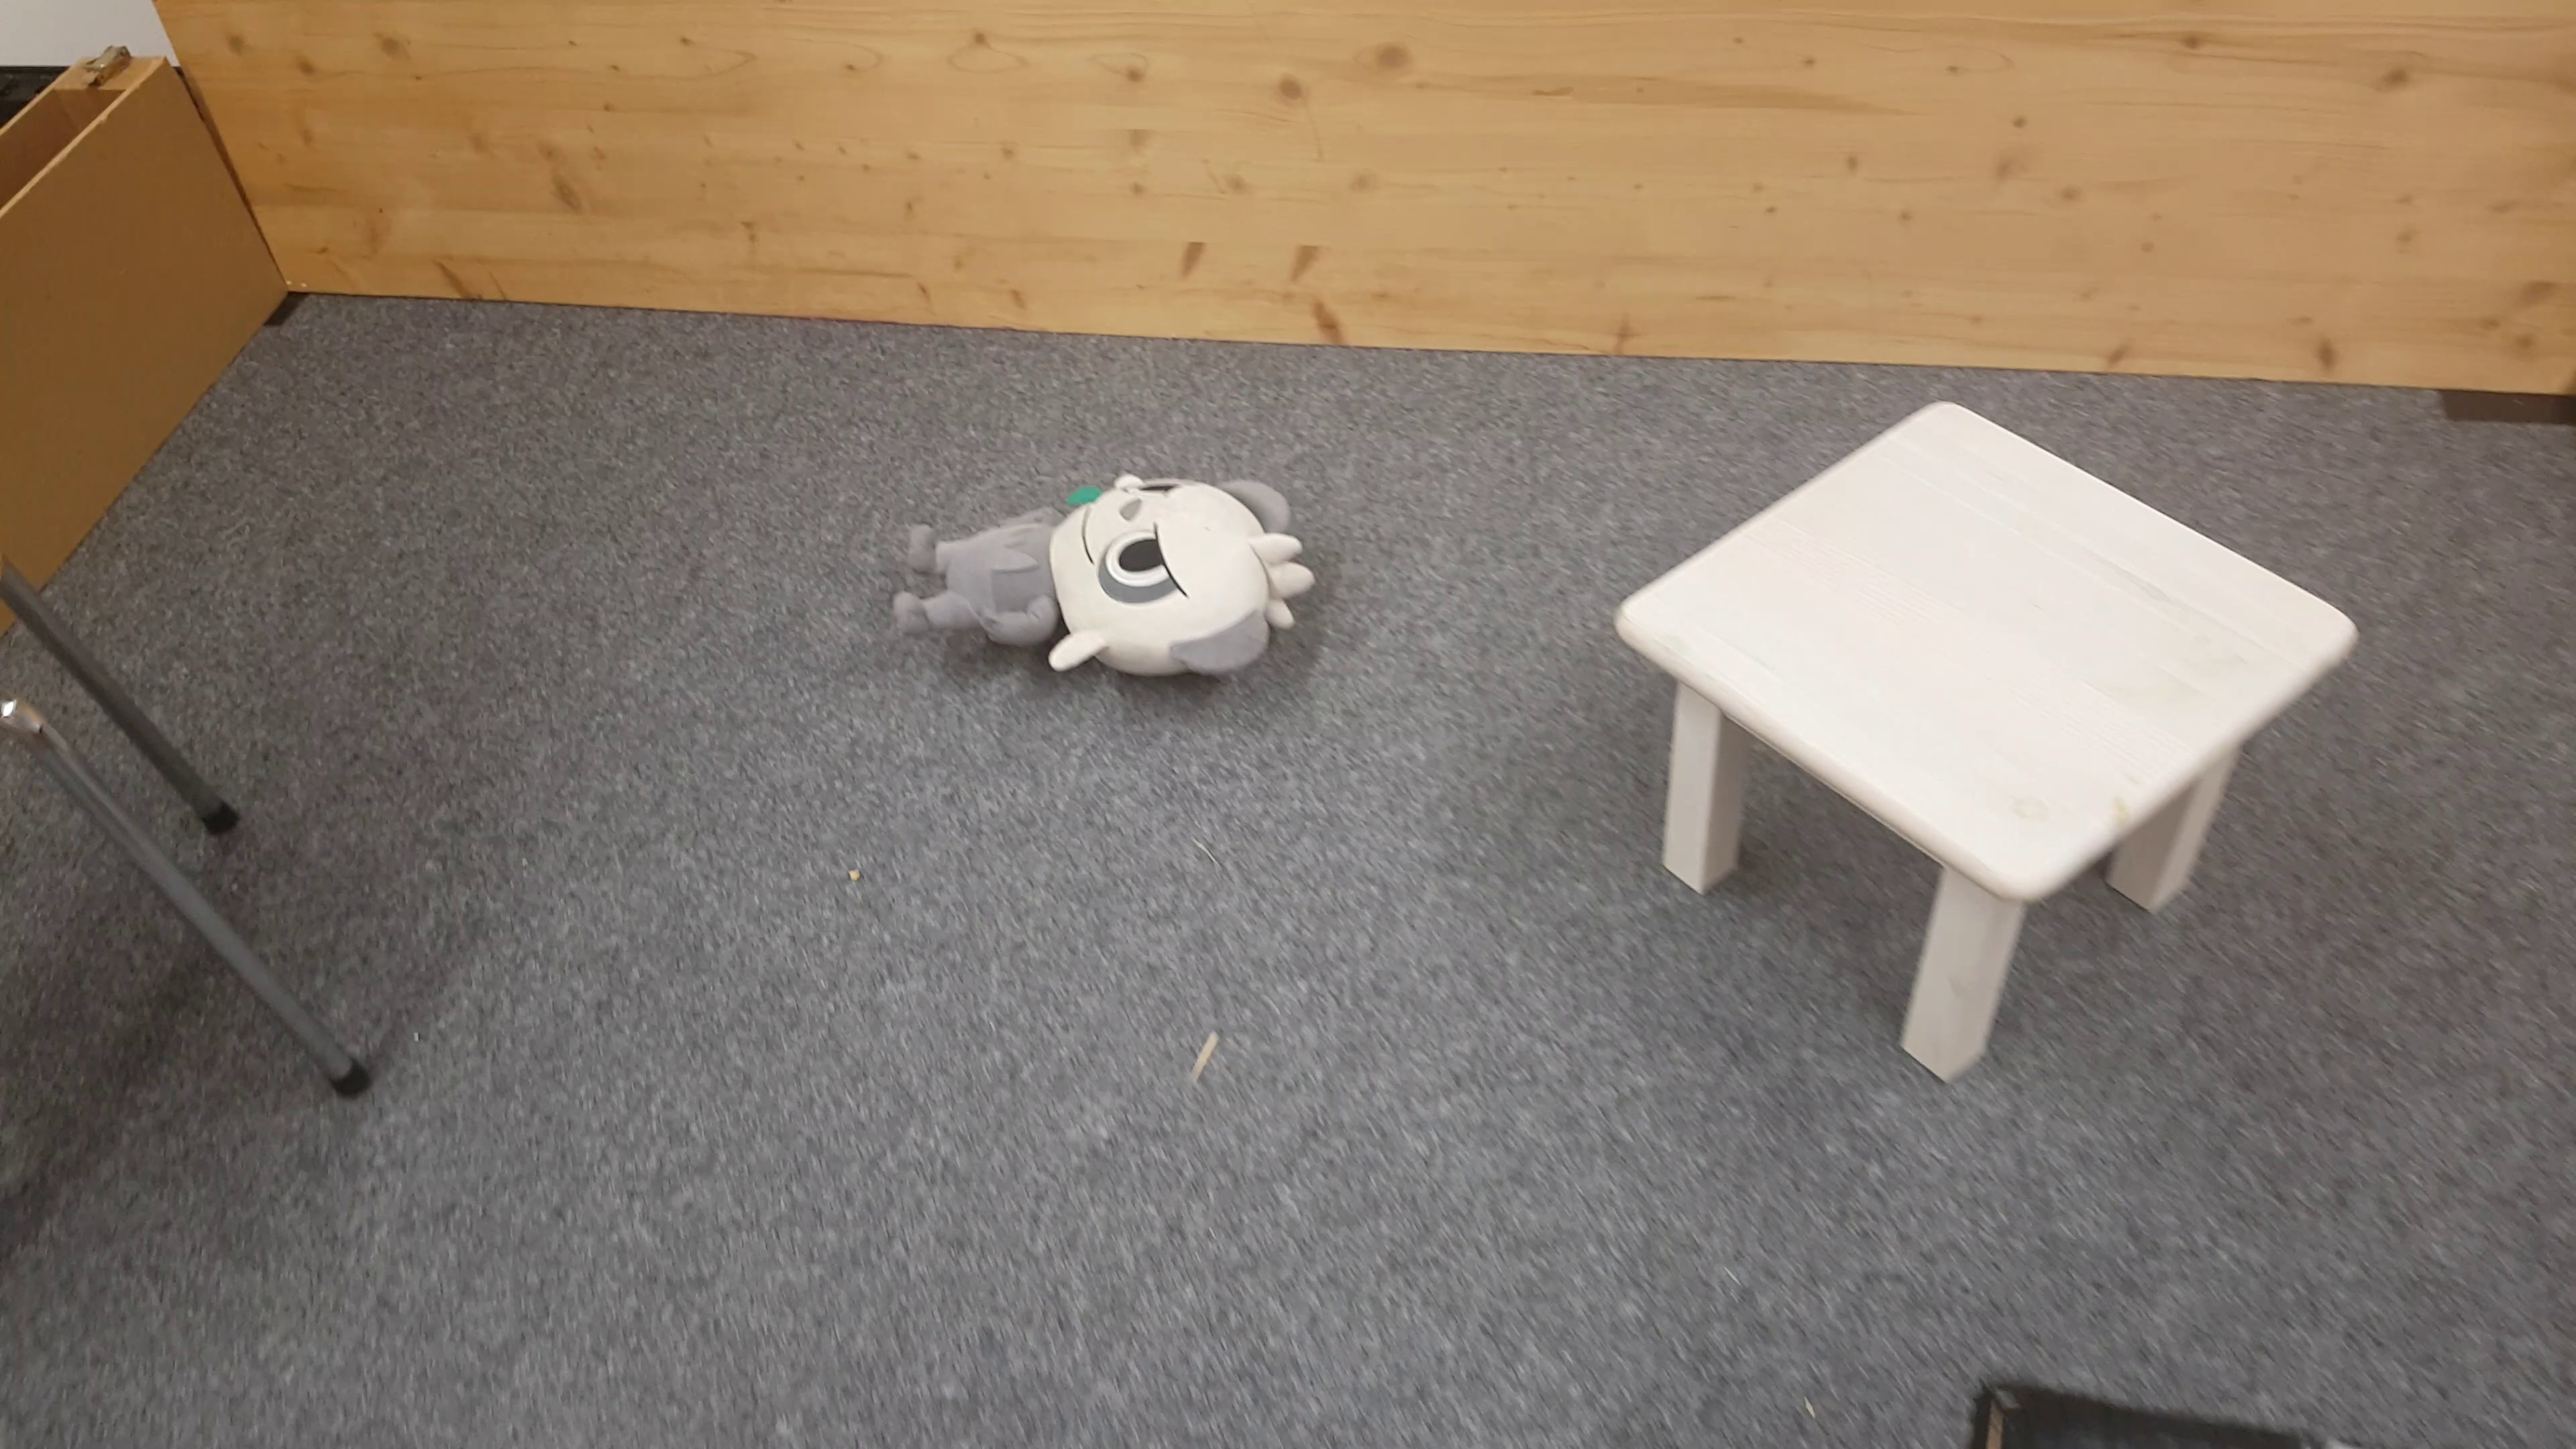grasp: (879, 465, 1316, 681)
